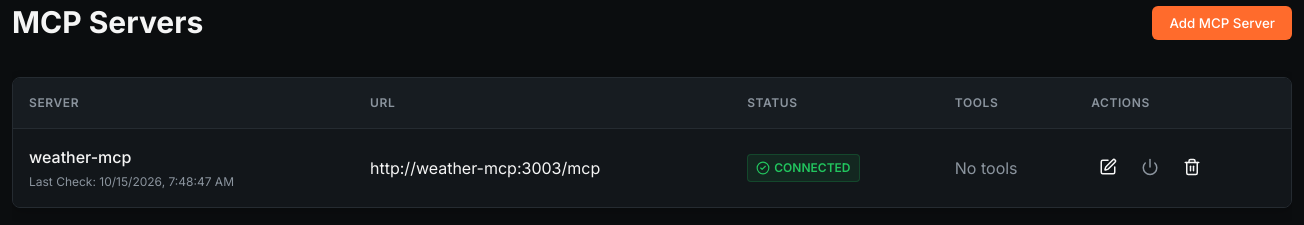
Server Toggle Operations and UI State Synchronization › successfully disables an enabled server and updates UI to Disabled status
This screenshot has width=1304, height=225.
Check: the text "Connected" is shown, box [747, 154, 860, 182]
Click the button titled "Disable" at coordinates (1150, 168), box [1133, 150, 1167, 186]
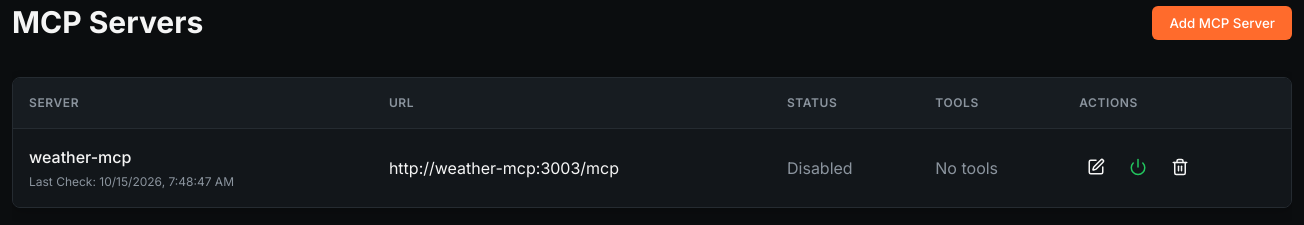
Check: the text "Disabled" is shown, box [787, 158, 853, 178]
Check: the text "Connected" is gone
